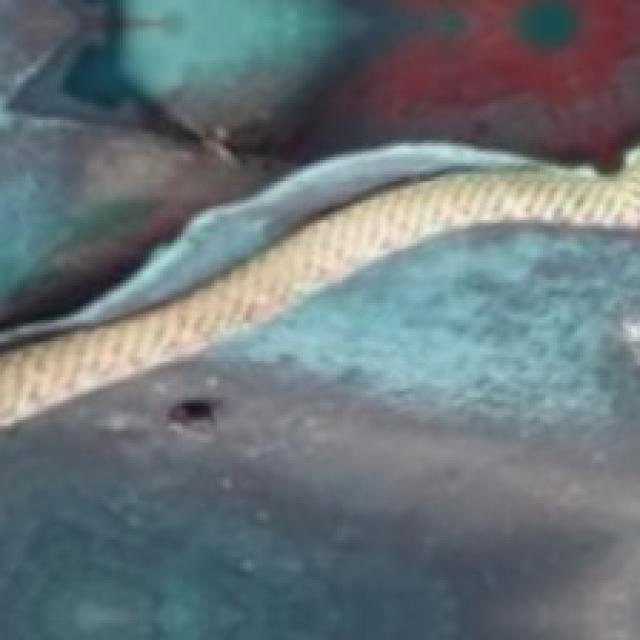paradise tree snake: (0, 226, 637, 637), (0, 0, 637, 323)
